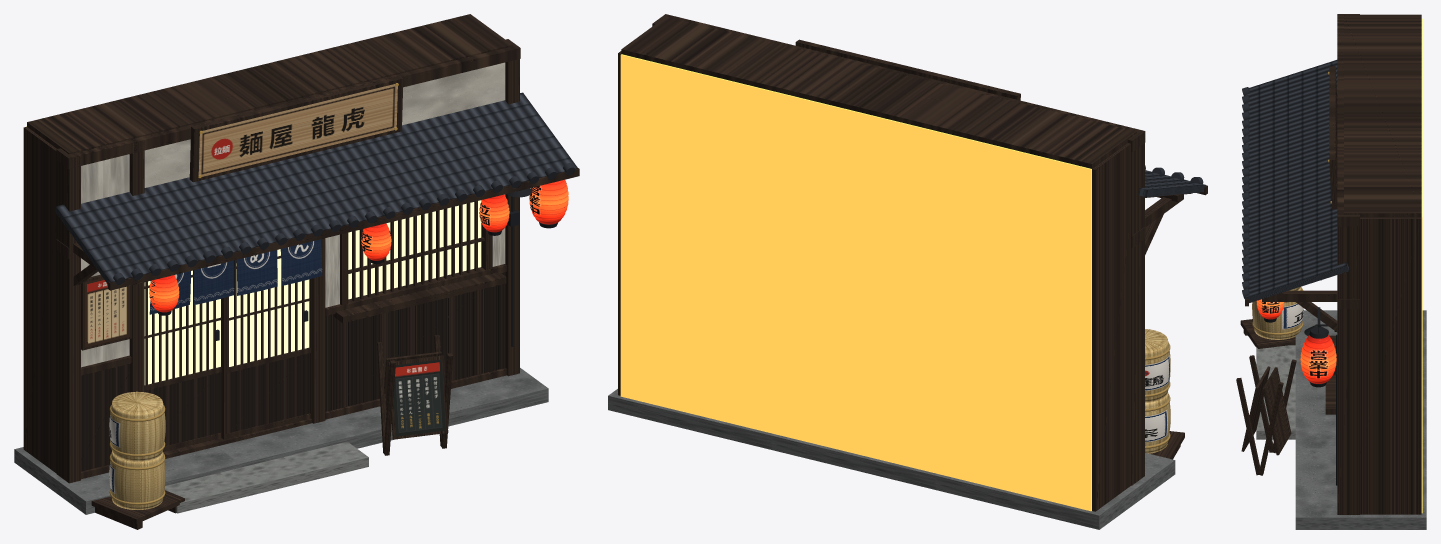
The model's file is izakaya-ramen-facade.glb.
3 renders of one model, left to right at view 1: azimuth 30°, elevation 25°; view 2: azimuth 150°, elevation 25°; view 3: azimuth 270°, elevation 25°, orthographic. The views are drawn at different scales.
Visible parts, largest first — view 1: Hisashi_Kawara_RoofPlane, Facade_TopCap, Yakisugi_Wainscot_Right, Concrete_Base_Plinth, Facade_SideWall_Left, Kanban_CalligraphyFace, Hashira_Post_1, Granite_Entrance_Step, Shikkui_Wall_UpperBand, Hikido_Door_Right_Sliding_KickPanel, Window_WashiGlass, Cedar_LintelBeam_2 (+32 smaller); view 2: Interior_Warm_BackWall, Facade_TopCap, Facade_SideWall_Left, Concrete_Base_Plinth, Hashira_Post_1, Cedar_LintelBeam_2, Kanban_OuterFrame, Komodaru_Top_Body, Komodaru_Bottom_Body, Hisashi_Kawara_RoofPlane, Facade_SideWall_Right; view 3: Facade_SideWall_Right, Hisashi_Kawara_RoofPlane, Facade_TopCap, Concrete_Base_Plinth, Hashira_Post_4, Granite_Entrance_Step, Cedar_LintelBeam_2, Chochin_Side_Large_WashiBody, Komodaru_Bottom_Body, AFrame_Board_Back, Kanban_OuterFrame, Interior_Warm_BackWall (+11 smaller).
Part boxes in pixels (x1,y1,x2,y2): Hisashi_Kawara_RoofPlane: [54, 92, 577, 283]; Facade_TopCap: [27, 14, 512, 154]; Yakisugi_Wainscot_Right: [325, 272, 505, 411]; Concrete_Base_Plinth: [14, 368, 548, 514]; Facade_SideWall_Left: [23, 126, 56, 473]; Kanban_CalligraphyFace: [198, 83, 397, 176]; Hashira_Post_1: [56, 156, 80, 483]; Granite_Entrance_Step: [164, 441, 368, 513]; Shikkui_Wall_UpperBand: [144, 62, 505, 187]; Hikido_Door_Right_Sliding_KickPanel: [229, 353, 309, 432]; Window_WashiGlass: [348, 200, 481, 299]; Cedar_LintelBeam_2: [56, 39, 520, 168]; Interior_Warm_BackWall: [620, 54, 1091, 511]; Facade_TopCap: [621, 16, 1136, 168]; Facade_SideWall_Left: [1092, 143, 1130, 511]; Concrete_Base_Plinth: [608, 389, 1175, 529]; Hashira_Post_1: [1131, 143, 1144, 485]; Cedar_LintelBeam_2: [652, 14, 1145, 151]; Kanban_OuterFrame: [795, 39, 1020, 100]; Komodaru_Top_Body: [1145, 329, 1170, 402]; Komodaru_Bottom_Body: [1145, 392, 1170, 453]; Hisashi_Kawara_RoofPlane: [1138, 170, 1206, 197]; Facade_SideWall_Right: [618, 51, 621, 395]; Facade_SideWall_Right: [1360, 217, 1421, 514]; Hisashi_Kawara_RoofPlane: [1245, 60, 1348, 302]; Facade_TopCap: [1344, 14, 1421, 217]; Concrete_Base_Plinth: [1295, 310, 1426, 529]; Hashira_Post_4: [1337, 226, 1359, 514]; Granite_Entrance_Step: [1256, 345, 1295, 439]; Cedar_LintelBeam_2: [1337, 14, 1359, 226]; Chochin_Side_Large_WashiBody: [1300, 335, 1336, 383]; Komodaru_Bottom_Body: [1252, 286, 1303, 339]; AFrame_Board_Back: [1262, 367, 1291, 455]; Kanban_OuterFrame: [1329, 66, 1337, 209]; Interior_Warm_BackWall: [1421, 18, 1422, 513].
Bounding box in the file's own units: 4.61 × 3.04 × 1.67.
28 materials, 19 textured.
